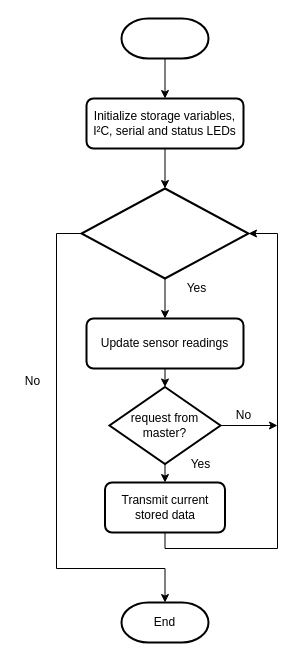
Image size: 303x660. Some labels were removed from this diagram. Here are the shapes that lost their labels. From the top down, the centre of each, then its label:
(164,38): Start
(164,233): power is supplied?
